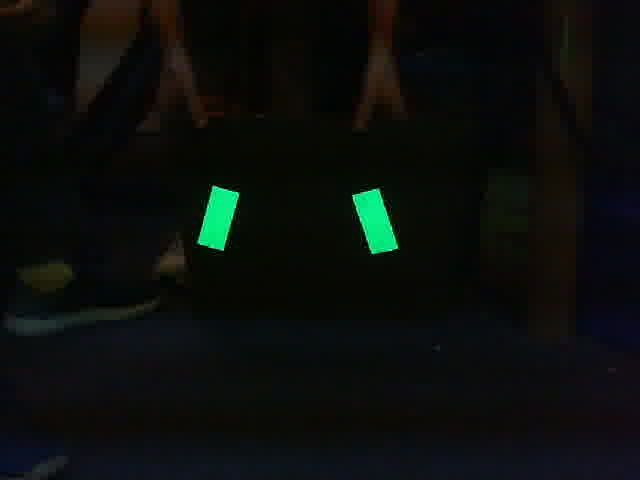target: (196, 185, 401, 255)
